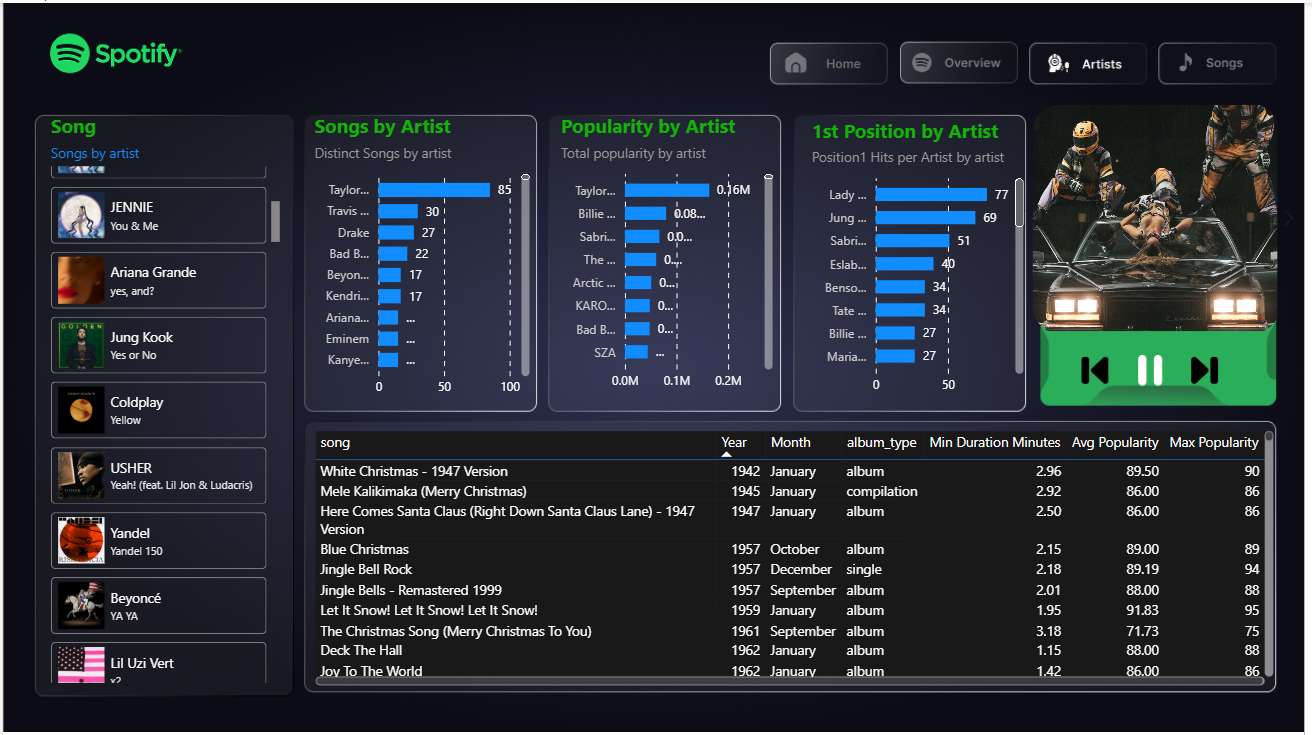

This screenshot's page, from the dashboard's own definition file:
{"tool":"powerbi","page":{"name":"Artist","canvas":[1280,720],"ordinal":2},"visuals":[{"type":"actionButton","box":[747.7,39.4,118.3,40],"z":0},{"type":"actionButton","box":[877.7,39.4,108.3,40],"z":1000},{"type":"actionButton","box":[1007.7,39.4,106.7,40],"z":2000},{"type":"actionButton","box":[1129.4,39.4,106.7,40],"z":3000},{"type":"advancedSlicerVisual","title":"Song ","fields":{"Values":["Top-50-World.song"]},"box":[986.7,93.3,293.3,235],"z":4000},{"type":"image","box":[1162.2,346.2,40,30],"z":5000},{"type":"image","box":[1105.5,346.2,45,30],"z":6000},{"type":"image","box":[1053.8,346.2,40,30],"z":7000},{"type":"shape","box":[1011.7,108.3,243.3,288.3],"z":8000},{"type":"clusteredBarChart","title":"Songs by Artist","fields":{"Y":["_Measure.Distinct Songs"],"Category":["Top-50-World.artist"]},"box":[301.7,108.3,221.7,288.3],"z":9000},{"type":"clusteredBarChart","title":"Popularity by Artist","fields":{"Y":["Sum(Top-50-World.popularity)"],"Category":["Top-50-World.artist"]},"box":[543.3,108.3,218.3,281.7],"z":10000},{"type":"advancedSlicerVisual","title":"Song ","fields":{"Values":["Top-50-World.song"]},"box":[41.7,108.3,235,568.3],"z":11000},{"type":"clusteredBarChart","title":"1st Position by Artist","fields":{"Category":["Top-50-World.artist"],"Y":["_Measure.Position1 Hits per Artist"]},"box":[790,111.7,218.3,281.7],"z":12000},{"type":"tableEx","fields":{"Values":["Top-50-World.song","Top-50-World.release_date.Variation.Date Hierarchy.Year","Top-50-World.release_date.Variation.Date Hierarchy.Month","Top-50-World.album_type","_Measure.Min Duration Minutes","_Measure.Avg Popularity","_Measure.Max Popularity"]},"box":[301.7,416.7,953.3,260],"z":12001}]}

Visuals, with their boxes in screenshot pixels (x1, y1, x2, y2), scaled from the page's 1280x720 canvas onto the 1312x735 screenshot:
actionButton: BBox(766, 40, 888, 81)
actionButton: BBox(900, 40, 1011, 81)
actionButton: BBox(1033, 40, 1142, 81)
actionButton: BBox(1158, 40, 1267, 81)
"Song " advancedSlicerVisual: BBox(1011, 95, 1311, 335)
image: BBox(1191, 353, 1232, 384)
image: BBox(1133, 353, 1179, 384)
image: BBox(1080, 353, 1121, 384)
shape: BBox(1037, 111, 1286, 405)
"Songs by Artist" clusteredBarChart: BBox(309, 111, 536, 405)
"Popularity by Artist" clusteredBarChart: BBox(557, 111, 781, 398)
"Song " advancedSlicerVisual: BBox(43, 111, 284, 691)
"1st Position by Artist" clusteredBarChart: BBox(810, 114, 1034, 402)
tableEx - Top-50-World.song x Top-50-World.release_date.Variation.Date Hierarchy.Year: BBox(309, 425, 1286, 691)
